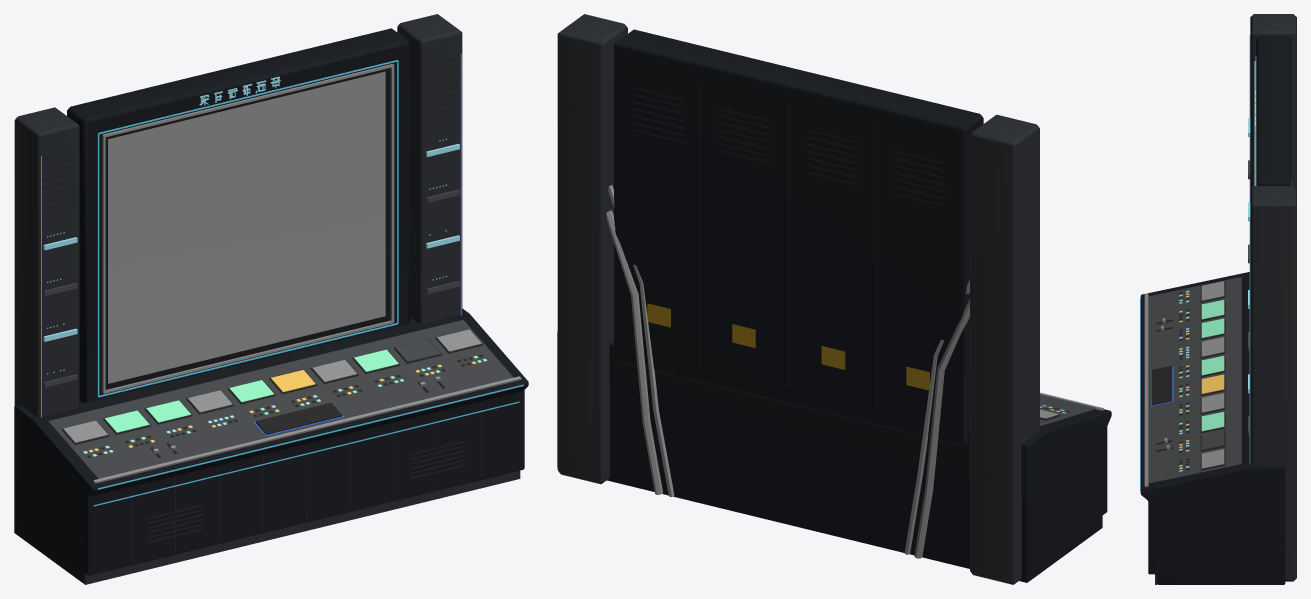
The model's file is Console_Transmitter.fbx.
The picture shows the model from 3 angles, left to right: view 1: azimuth 30°, elevation 25°; view 2: azimuth 150°, elevation 25°; view 3: azimuth 270°, elevation 25°; orthographic projection. The views are drawn at different scales.
Parts seen in each view (by area): view 1: Console_Transmitter_LOD0; view 2: Console_Transmitter_LOD0; view 3: Console_Transmitter_LOD0.
Part boxes in pixels (x1,y1,x2,y2): Console_Transmitter_LOD0: (14,14,528,584); Console_Transmitter_LOD0: (557,14,1111,584); Console_Transmitter_LOD0: (1140,14,1296,584).
Size of what is drawn, in the model's own units: 4 by 3.6 by 1.35.
